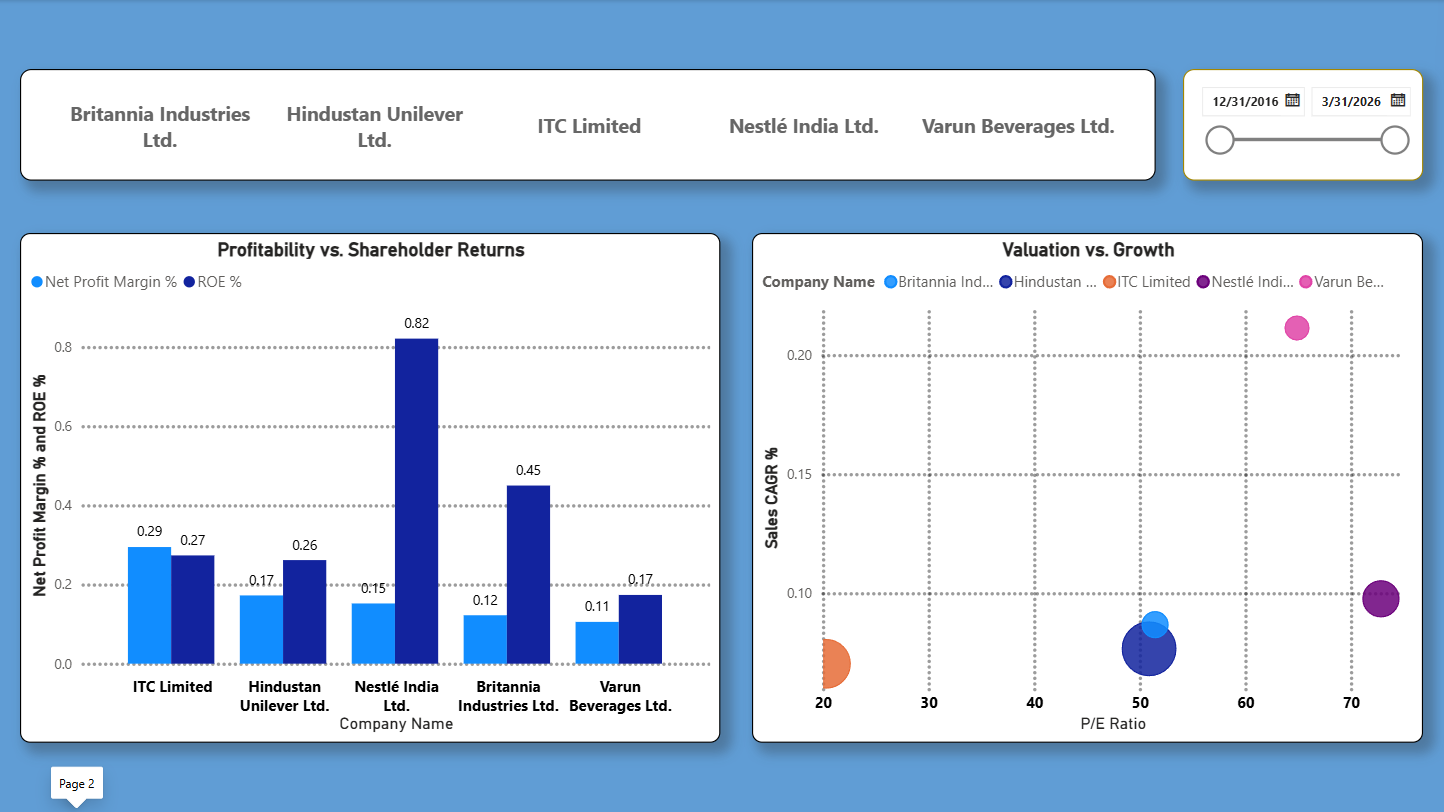

What the dashboard file says about the page in this screenshot:
{"tool":"powerbi","page":{"name":"Page 2","canvas":[1280,720],"ordinal":1},"visuals":[{"type":"clusteredColumnChart","title":"Profitability vs. Shareholder Returns","fields":{"Y":["_Measures.Net Profit Margin %","_Measures.ROE %"],"Category":["Dim_Company.Display Name"]},"box":[17.9,206.6,620.7,452.2],"z":0,"group":"g1"},{"type":"scatterChart","title":"Valuation vs. Growth","fields":{"X":["_Measures.P/E Ratio"],"Y":["_Measures.Sales CAGR %"],"Series":["Dim_Company.Display Name"],"Size":["_Measures.Total Market Cap"]},"box":[667,206.6,595,452.2],"z":1000,"group":"g1"},{"type":"slicer","fields":{"Values":["Dim_Company.Display Name"]},"box":[17.9,61.2,1007.3,99.3],"z":2000,"group":"g1"},{"type":"slicer","fields":{"Values":["Dim_Date.Date"]},"box":[1049.4,61.1,212.8,99.3],"z":3000,"group":"g1"},{"type":"group","id":"g1","title":"Group 1","box":[17.9,61.1,1244.3,597.8],"z":3001}]}

Visuals, with their boxes in screenshot pixels (x1, y1, x2, y2), scaled from the page's 1280x720 canvas onto the 1444x812 screenshot:
"Profitability vs. Shareholder Returns" clusteredColumnChart: Rect(20, 233, 720, 743)
"Valuation vs. Growth" scatterChart: Rect(752, 233, 1424, 743)
slicer - Dim_Company.Display Name: Rect(20, 69, 1157, 181)
slicer - Dim_Date.Date: Rect(1184, 69, 1424, 181)
"Group 1" group: Rect(20, 69, 1424, 743)
